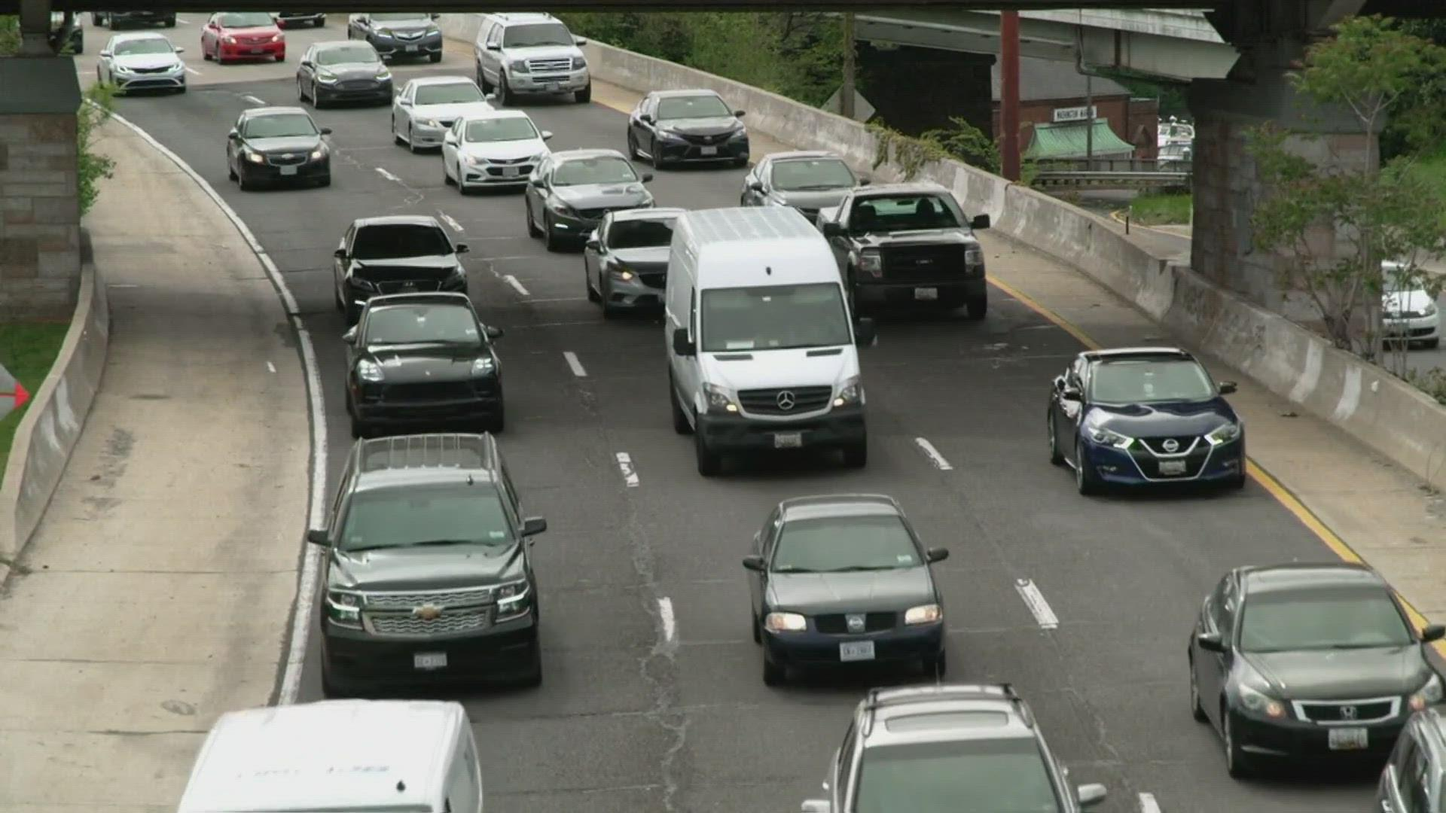car: (311, 435, 545, 696), (664, 206, 873, 476), (1189, 565, 1446, 775), (802, 683, 1107, 813), (746, 494, 946, 683), (178, 700, 483, 813), (1048, 347, 1245, 494), (816, 183, 991, 319), (333, 215, 469, 326), (525, 150, 655, 251), (703, 282, 853, 353), (474, 14, 590, 104), (585, 209, 683, 315), (627, 88, 751, 167), (443, 110, 551, 192), (226, 107, 330, 189), (740, 150, 859, 220), (393, 76, 494, 152), (297, 40, 393, 107), (96, 34, 186, 92), (347, 14, 443, 62), (201, 11, 285, 62)
pavement: (0, 121, 308, 809)
road: (119, 79, 1375, 810)
